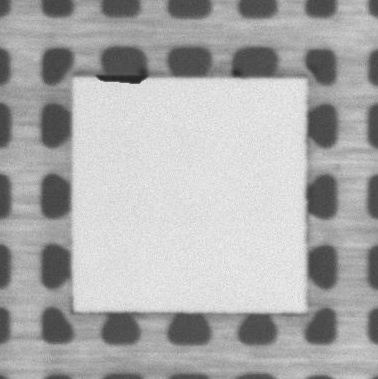DIE_BROKEN: (93, 70, 150, 87)
